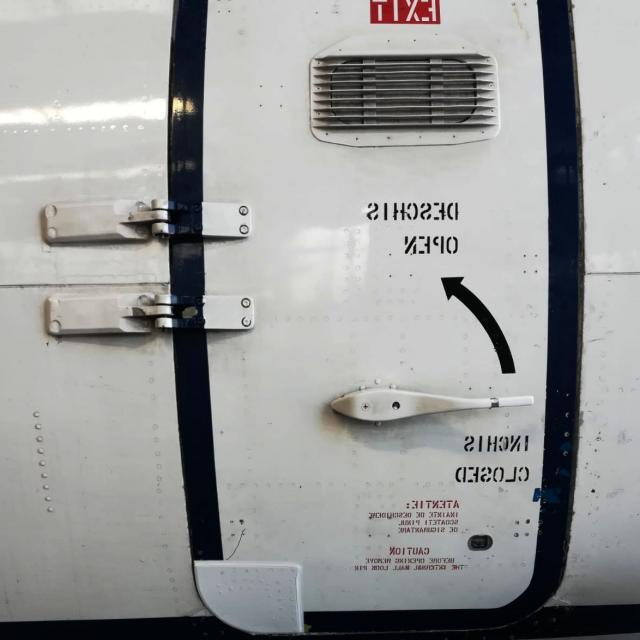crack: (222, 520, 252, 562)
